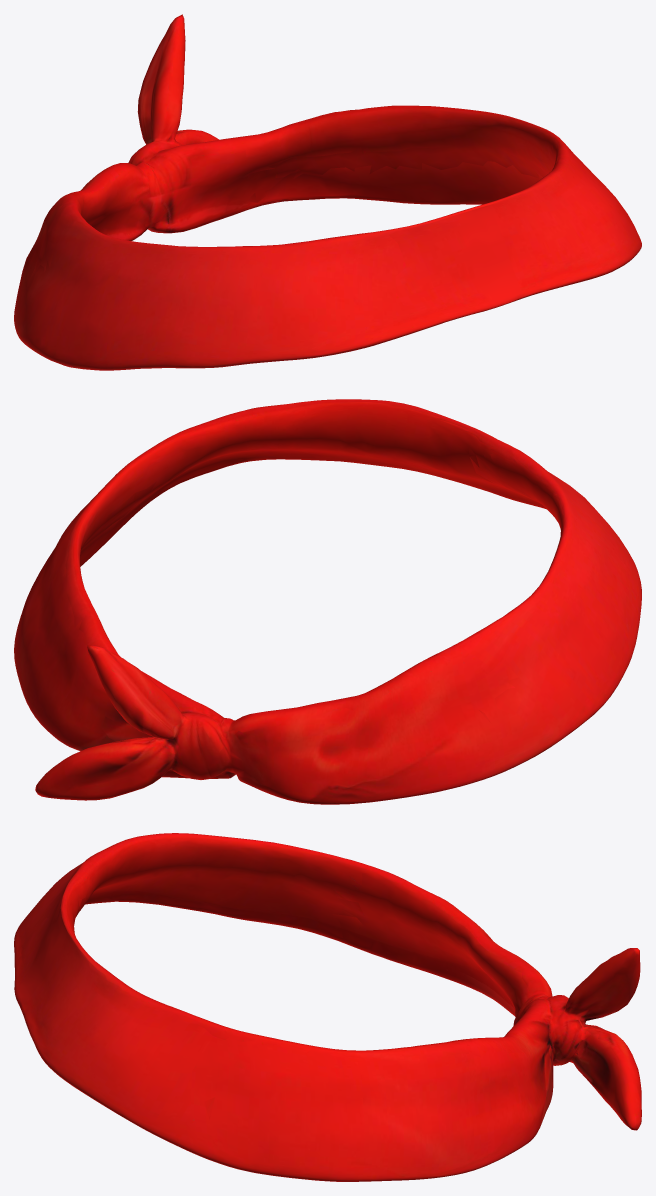
File: Bandana-Red.glb
3 views of the same model, one above another, from view 1: azimuth 30°, elevation 25°; view 2: azimuth 150°, elevation 25°; view 3: azimuth 270°, elevation 25° (orthographic). The views are drawn at different scales.
Visible parts, largest first — view 1: Bandana-Red; view 2: Bandana-Red; view 3: Bandana-Red.
Boxes of the visible parts, x1,y1,x2,y2 form: Bandana-Red: (14, 14, 641, 370); Bandana-Red: (14, 399, 641, 804); Bandana-Red: (14, 833, 641, 1181).
Size of the model in its own units: 0.474 by 0.1592 by 0.4901.
1 material, 1 textured.
